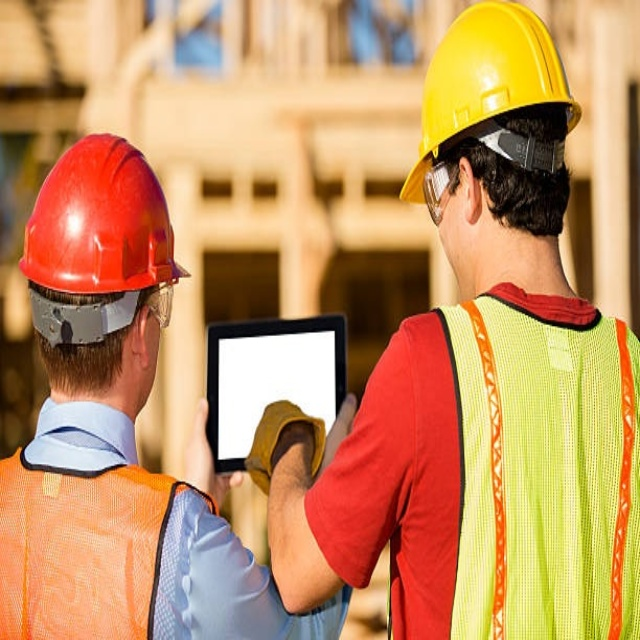Gafas: (425, 155, 460, 221), (144, 279, 176, 328)
Guantes: (245, 400, 324, 497)
Sin_guantes: (182, 394, 242, 512)
